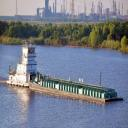tugboat: (7, 39, 42, 93)
